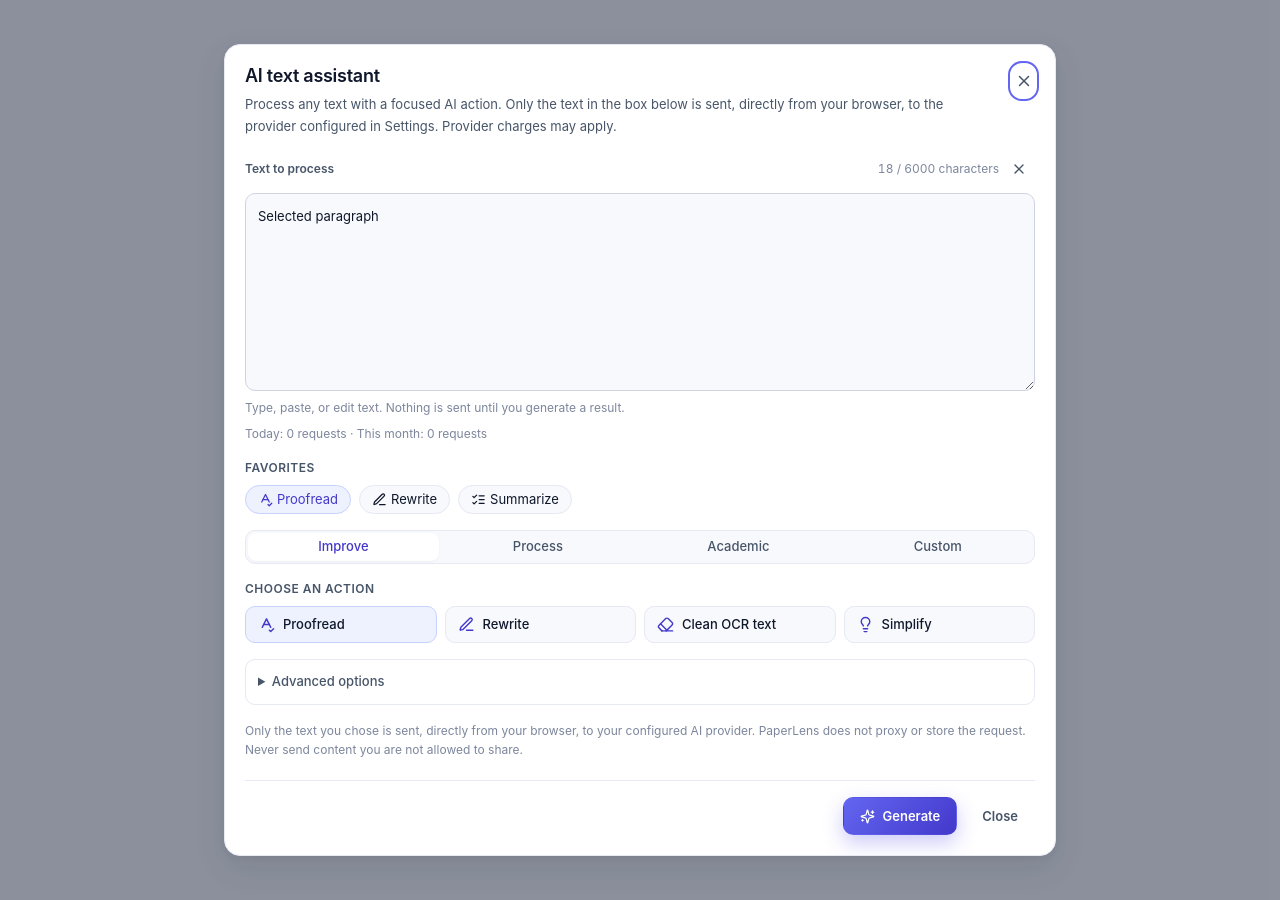
AiAssistantDialog › offers only the simplified categories and actions without translation
The image size is (1280, 900).
Expected: the button "Proofread" below "Choose an action" is shown, [245,606,436,643]
Expected: the button "Rewrite" below "Choose an action" is shown, [444,606,636,643]
Click the tab "Process": [538, 547] box [443,533,633,561]
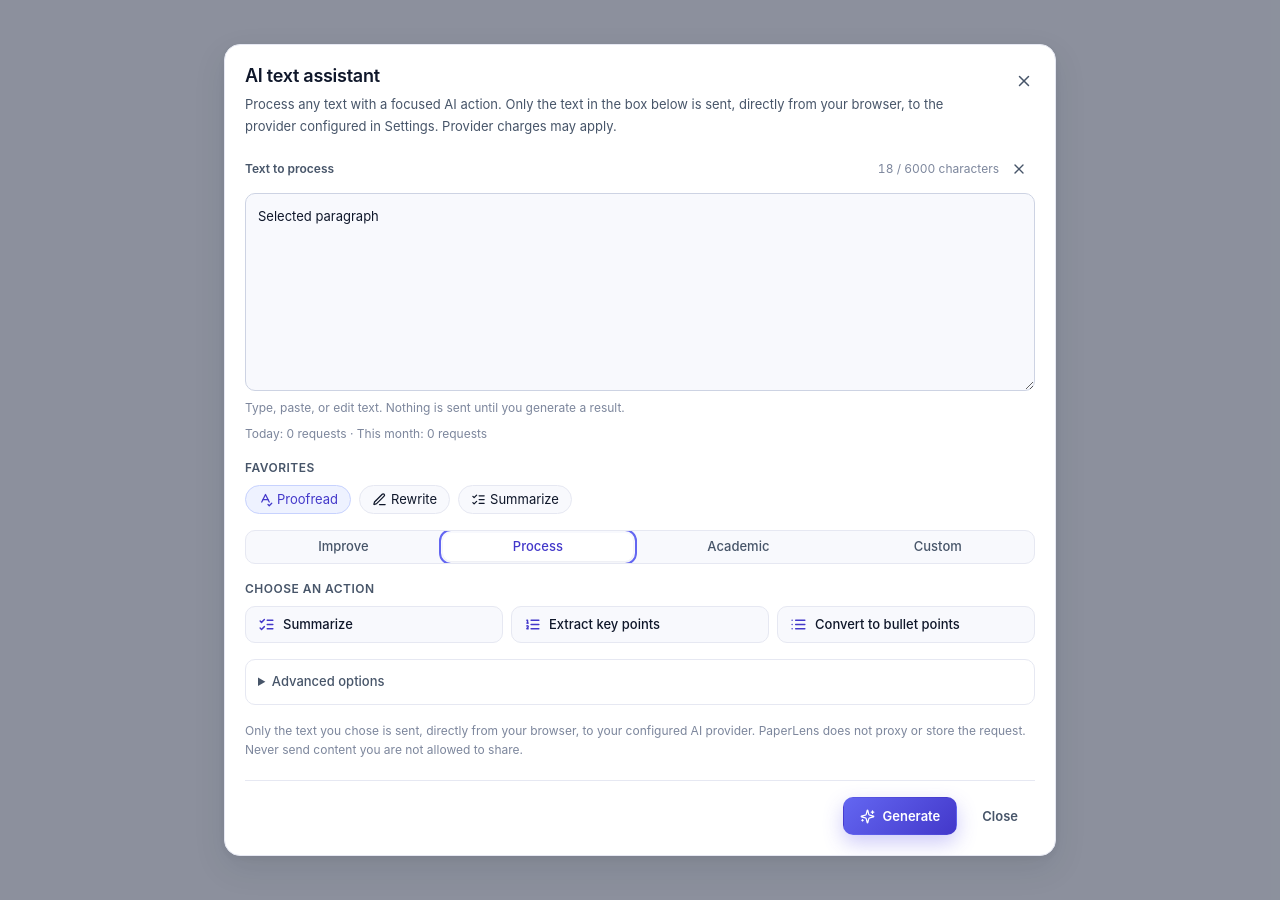
Now the button "Summarize" below "Choose an action" is shown, box [245,606,503,643]
Now the button "Extract key points" is shown, box [511,606,769,643]
Now the button "Convert to bullet points" is shown, box [777,606,1035,643]
Click the tab "Academic": [738, 547] box [637,533,840,561]
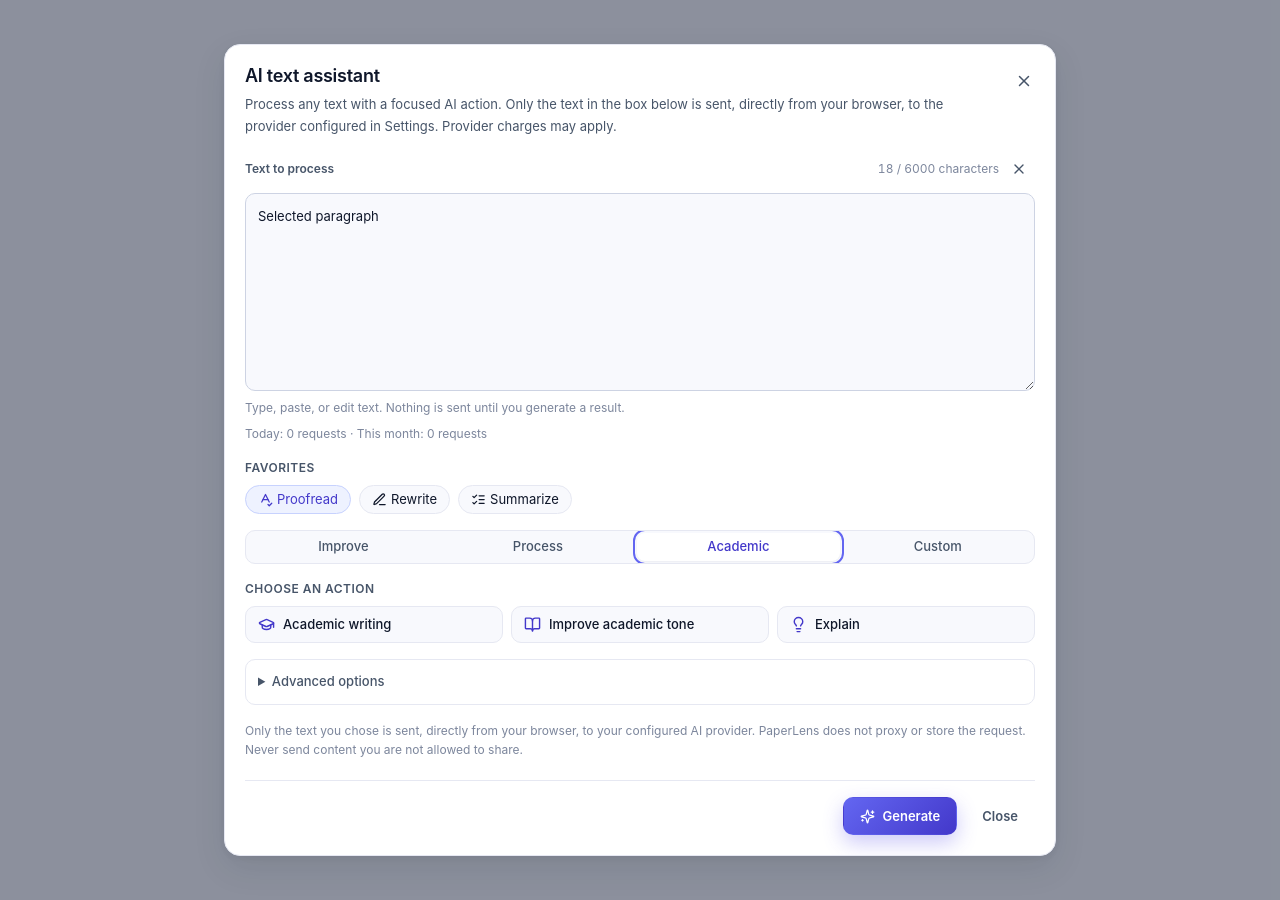
Now the button "Academic writing" is shown, box [245,606,503,643]
Now the button "Improve academic tone" is shown, box [511,606,769,643]
Now the button "Explain" is shown, box [777,606,1035,643]
